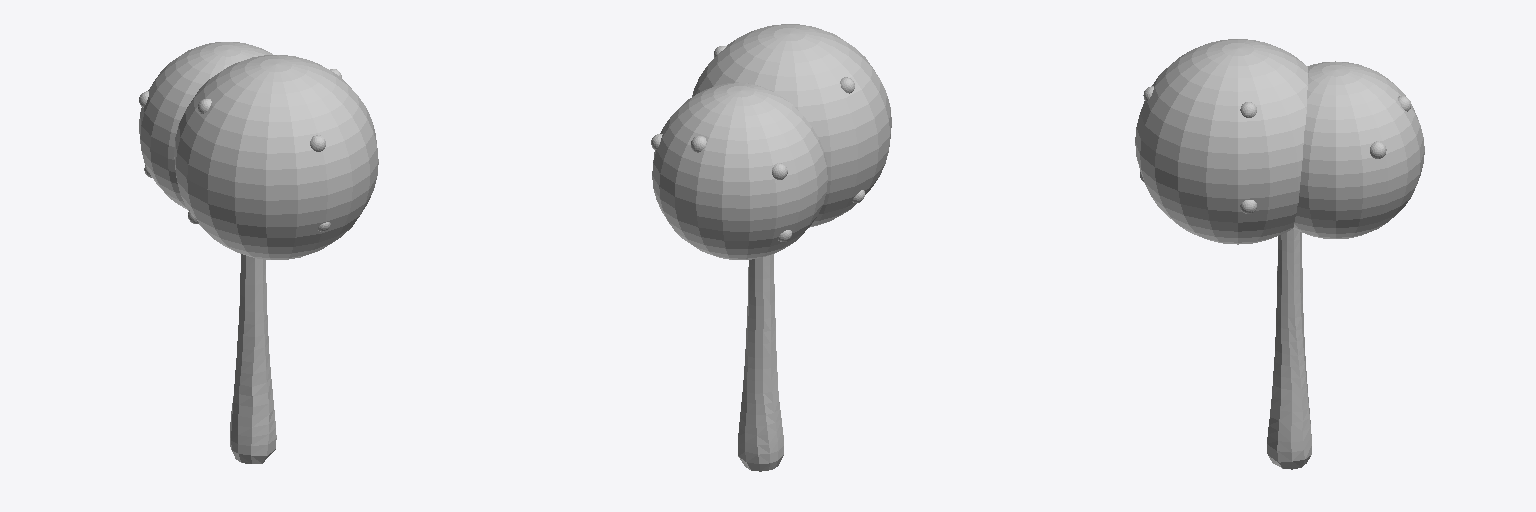
The model's file is Low_Poly_With_Fruit.obj.
3 renders of one model, left to right at view 1: azimuth 30°, elevation 25°; view 2: azimuth 150°, elevation 25°; view 3: azimuth 270°, elevation 25°, orthographic.
Visible parts, largest first — view 1: pSphere10 Good_One; view 2: pSphere10 Good_One; view 3: pSphere10 Good_One.
Boxes of the visible parts, x1,y1,x2,y2 form: pSphere10 Good_One: [139, 42, 378, 463]; pSphere10 Good_One: [651, 24, 891, 471]; pSphere10 Good_One: [1135, 39, 1424, 469].
Size of the model in its own units: 1.29 by 2.84 by 1.8.